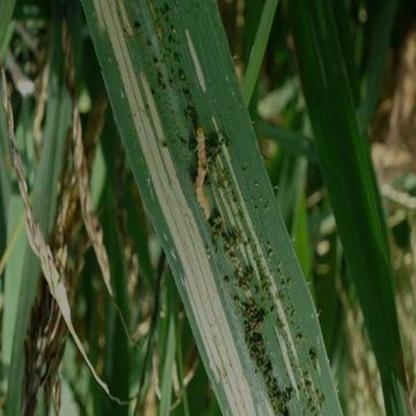leaf-folder: (181, 118, 223, 228)
